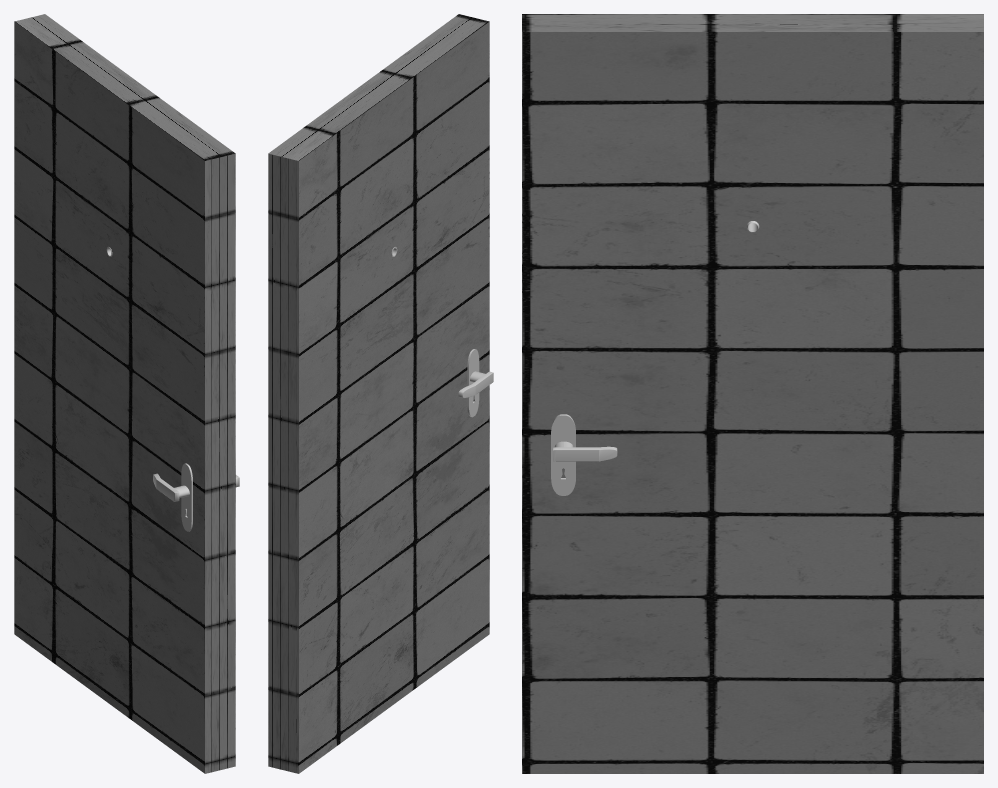
The model's file is Porta2.fbx.
The picture shows the model from 3 angles, left to right: view 1: azimuth 30°, elevation 25°; view 2: azimuth 150°, elevation 25°; view 3: azimuth 270°, elevation 25°; orthographic projection. The views are drawn at different scales.
Visible parts, largest first — view 1: porta-banheiro.003, porta-banheiro.002, maçaneta-banheiro; view 2: porta-banheiro.003, porta-banheiro.002, maçaneta-banheiro; view 3: porta-banheiro.003, porta-banheiro.002, maçaneta-banheiro.
Part boxes in pixels (<box>): porta-banheiro.003: <box>14,14,235,773</box>; porta-banheiro.002: <box>181,463,192,531</box>; maçaneta-banheiro: <box>153,473,239,501</box>; porta-banheiro.003: <box>268,14,489,773</box>; porta-banheiro.002: <box>467,349,479,417</box>; maçaneta-banheiro: <box>458,371,493,397</box>; porta-banheiro.003: <box>522,14,983,773</box>; porta-banheiro.002: <box>551,414,575,495</box>; maçaneta-banheiro: <box>553,441,617,461</box>.
Bounding box in the file's own units: 109 × 984 × 555.
